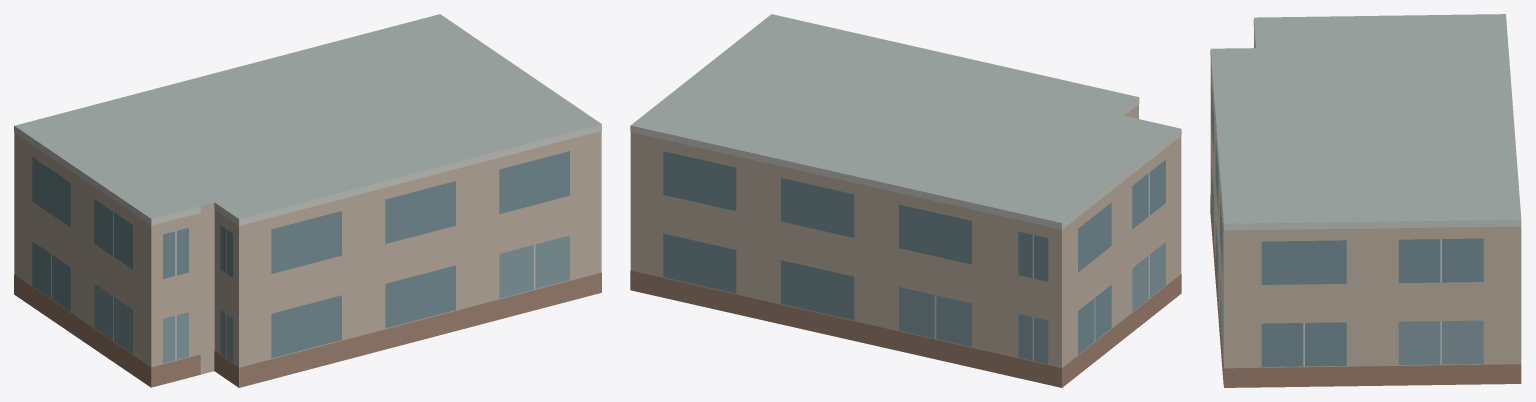
The model's file is survey-upis-32988590.glb.
3 renders of one model, left to right at view 1: azimuth 30°, elevation 25°; view 2: azimuth 150°, elevation 25°; view 3: azimuth 270°, elevation 25°, orthographic. The views are drawn at different scales.
Visible parts, largest first — view 1: survey-upis-32988590.tmp; view 2: survey-upis-32988590.tmp; view 3: survey-upis-32988590.tmp.
Boxes of the visible parts, <box> form: survey-upis-32988590.tmp: <box>14,14,601,387</box>; survey-upis-32988590.tmp: <box>630,14,1181,387</box>; survey-upis-32988590.tmp: <box>1210,14,1521,387</box>.
Bounding box in the file's own units: 14.83 × 5.4 × 9.29.
